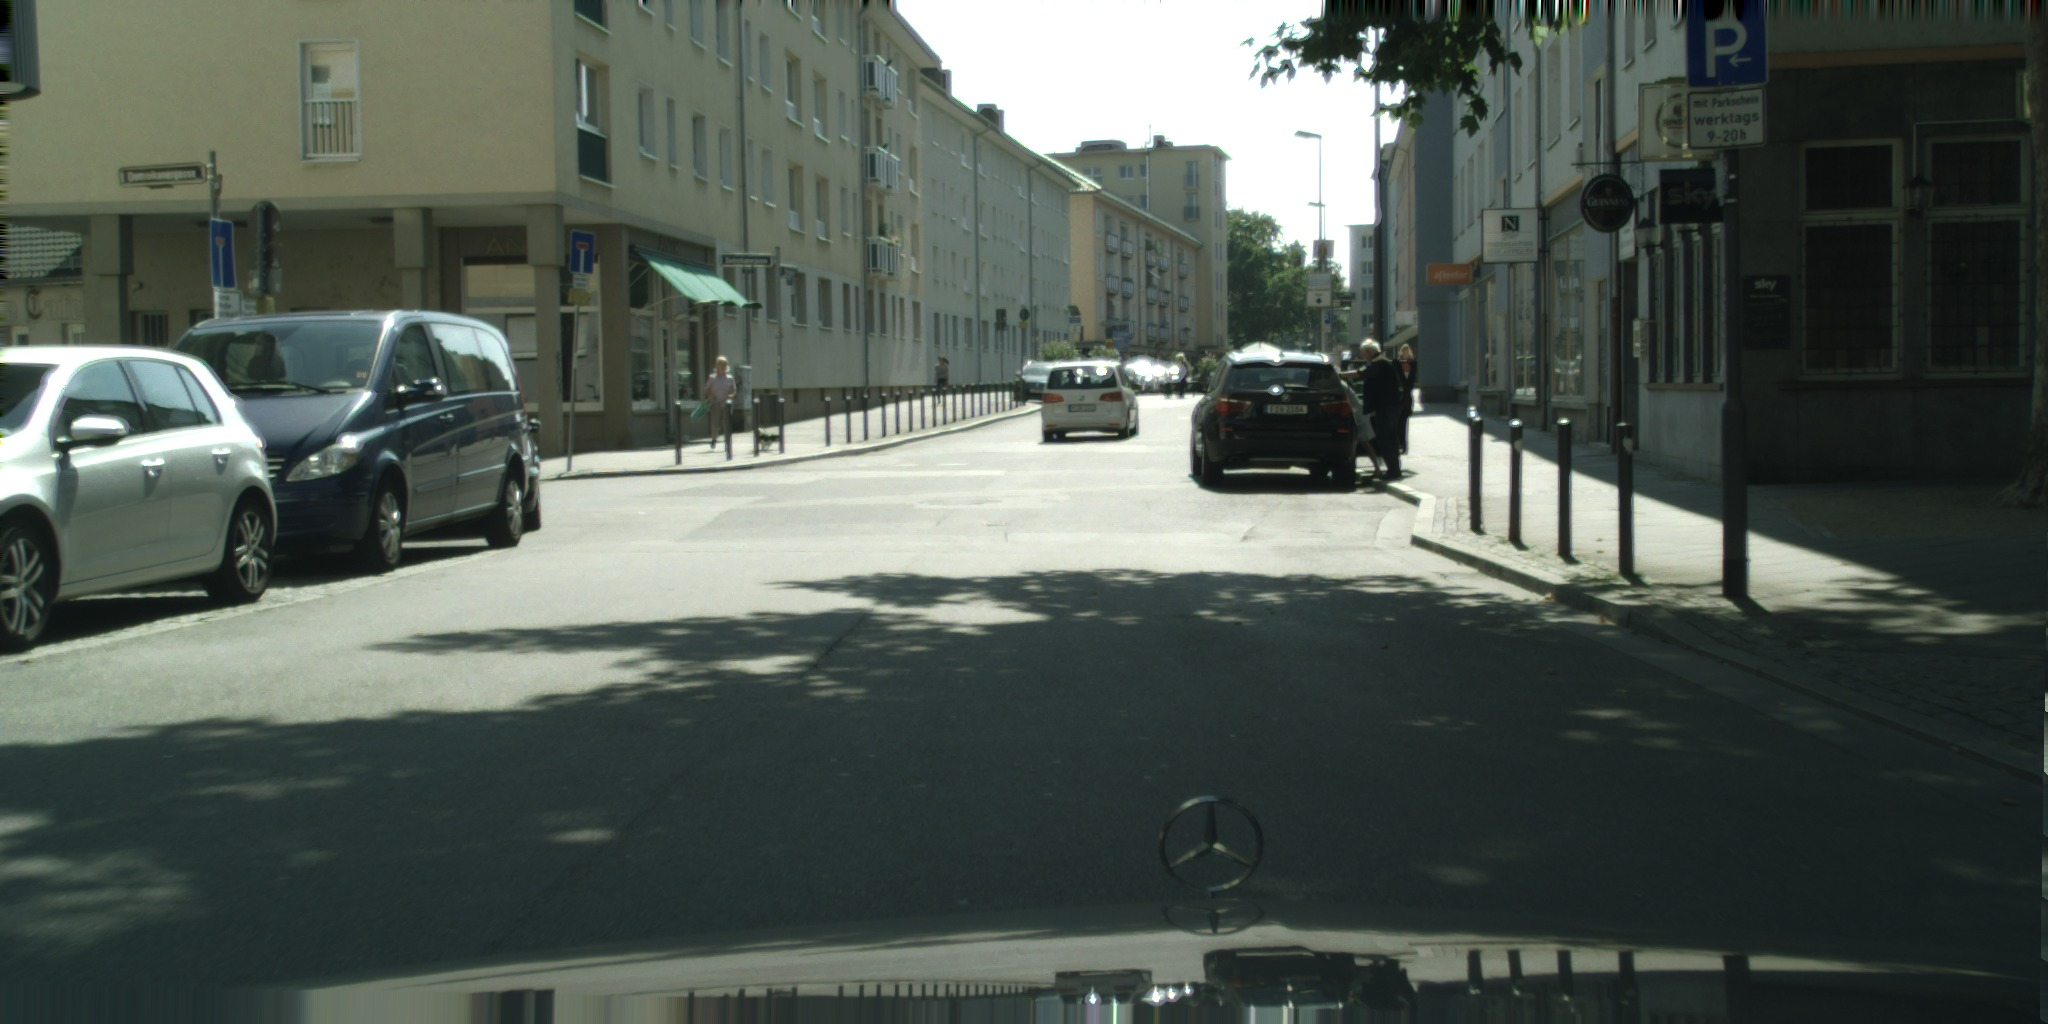car: (144, 308, 529, 569), (0, 344, 279, 651), (1184, 351, 1416, 488), (428, 390, 543, 534), (1040, 359, 1142, 441), (1013, 359, 1066, 402), (1117, 361, 1184, 393), (1117, 359, 1154, 393), (1314, 352, 1345, 380), (1329, 351, 1357, 376), (1168, 363, 1184, 391)
person: (1338, 339, 1402, 480), (1338, 371, 1381, 477), (690, 357, 736, 449), (934, 356, 949, 406), (1173, 352, 1187, 399), (1395, 344, 1414, 376)
